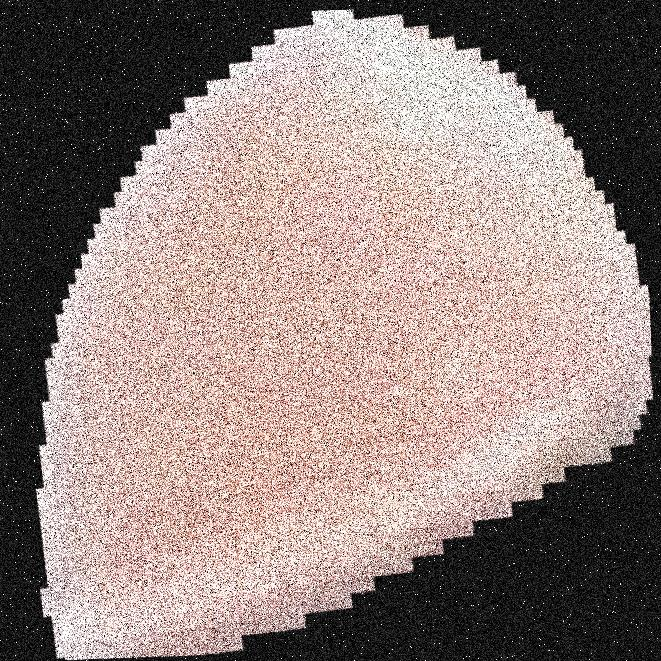Capacete: (127, 0, 497, 660)
